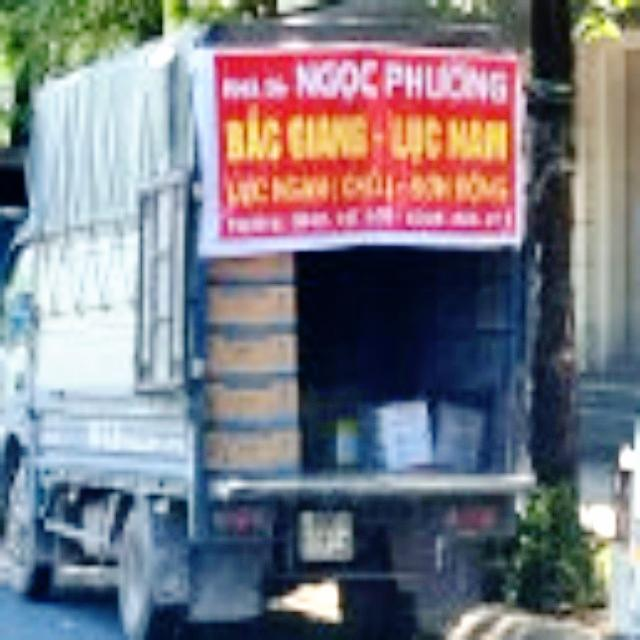Car: (0, 0, 543, 639)
